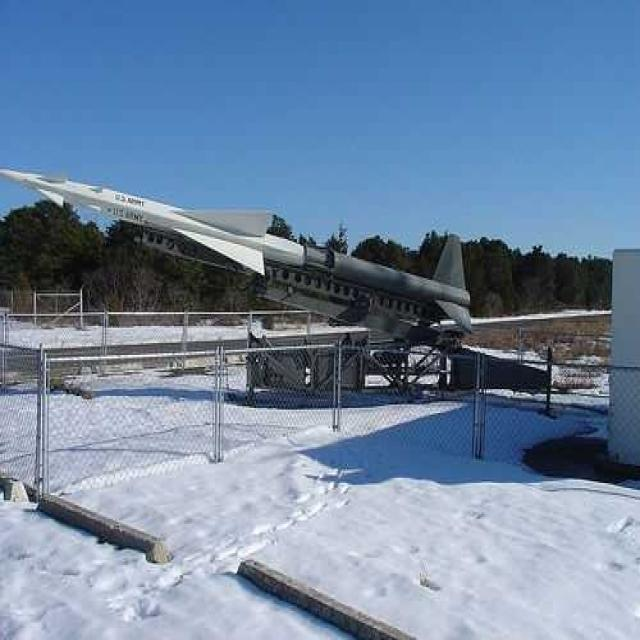missile: (3, 166, 307, 284)
